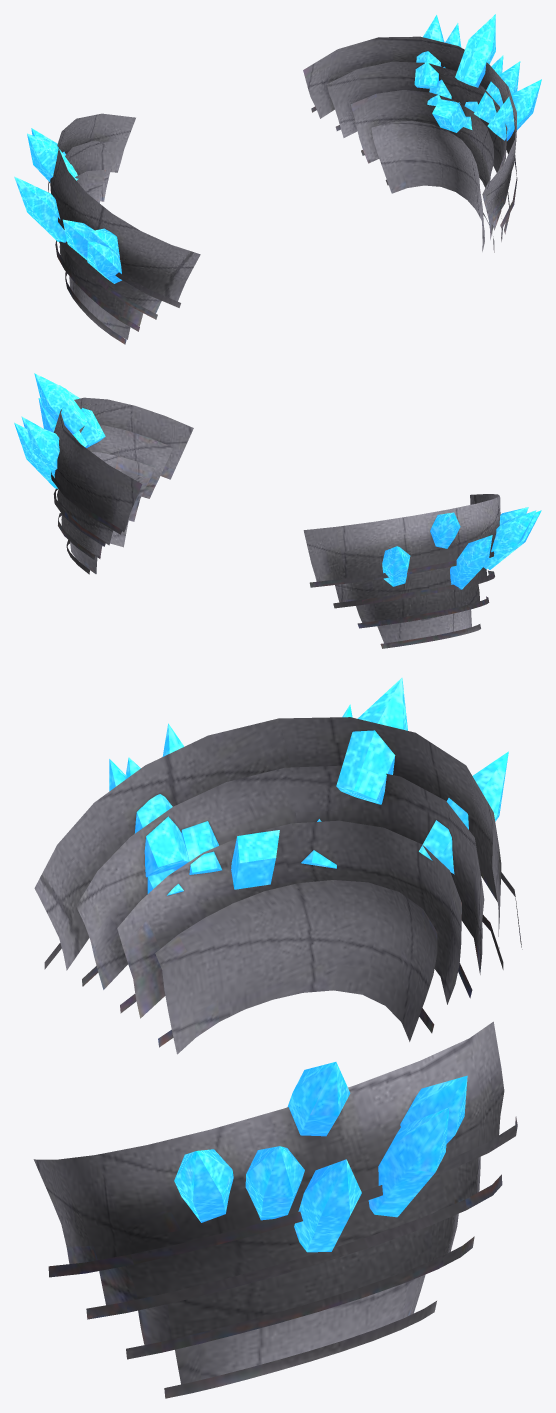
Rendered from Ombreiras_de_Energia_nivel100.glb.
The picture shows the model from 3 angles, top to bottom: view 1: azimuth 30°, elevation 25°; view 2: azimuth 150°, elevation 25°; view 3: azimuth 270°, elevation 25°; orthographic projection. The views are drawn at different scales.
Parts seen in each view (by area): view 1: ombreiras_de_energia_nivel100; view 2: ombreiras_de_energia_nivel100; view 3: ombreiras_de_energia_nivel100.
Part boxes in pixels (bbox=[...]): ombreiras_de_energia_nivel100: bbox=[14, 14, 541, 344]; ombreiras_de_energia_nivel100: bbox=[14, 373, 541, 648]; ombreiras_de_energia_nivel100: bbox=[33, 677, 522, 1398].
Bounding box in the file's own units: 0.7322 × 0.2815 × 0.3281.
Materials: 1 (1 with a texture image).
